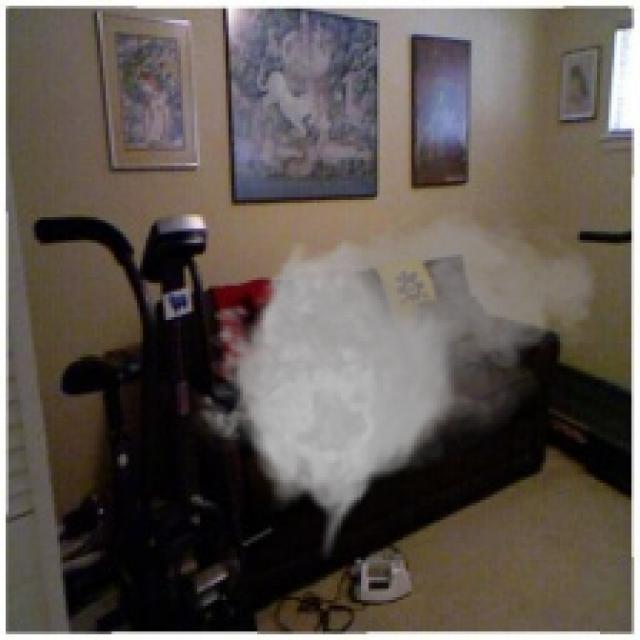smoke: (186, 203, 603, 563)
